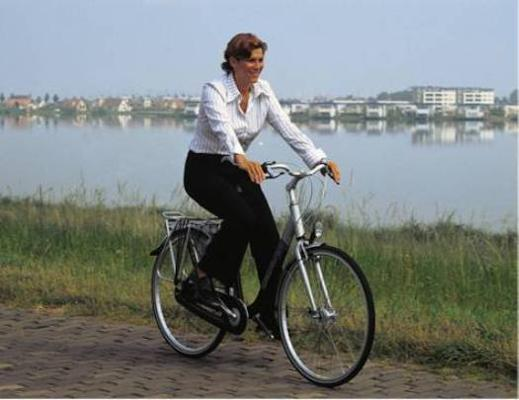person: (185, 33, 341, 338)
